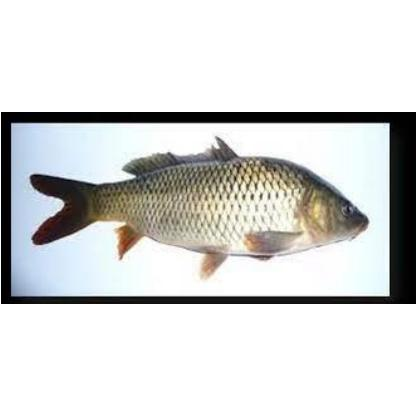ikan-mas: (24, 141, 370, 267)
